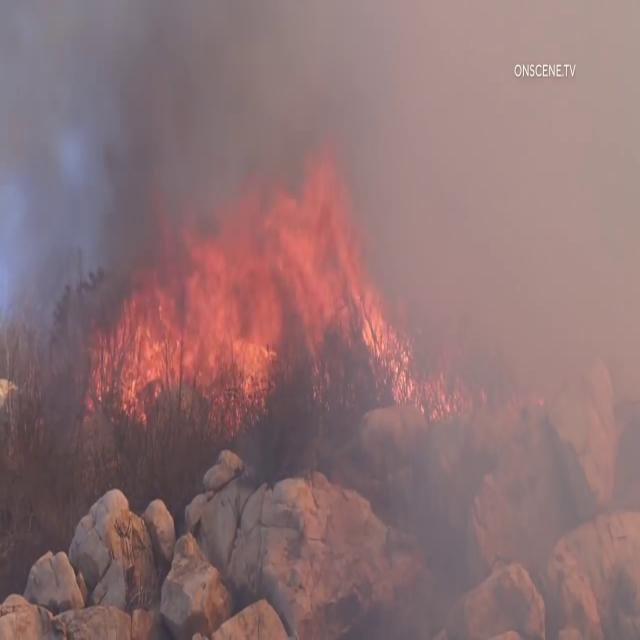Fire: (94, 134, 394, 409)
Smoke: (355, 1, 640, 627)
